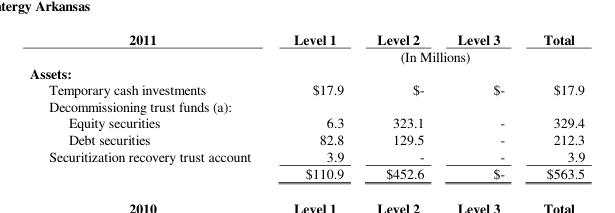table: (29, 29, 584, 181)
table column: (29, 29, 271, 181), (271, 29, 359, 181), (440, 29, 523, 181), (359, 29, 440, 181), (523, 29, 584, 181)
table column header: (29, 29, 584, 63)
table projected row header: (29, 63, 584, 80), (29, 97, 584, 113)
table row: (29, 29, 584, 47), (29, 163, 584, 181), (29, 63, 584, 80), (29, 80, 584, 97), (29, 113, 584, 130), (29, 130, 584, 147), (29, 47, 584, 63), (29, 97, 584, 113), (29, 147, 584, 163)
table spanning cell: (29, 29, 271, 63), (271, 47, 584, 63)
